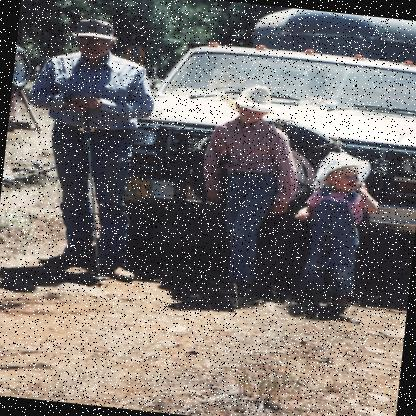Car: (115, 19, 415, 246)
